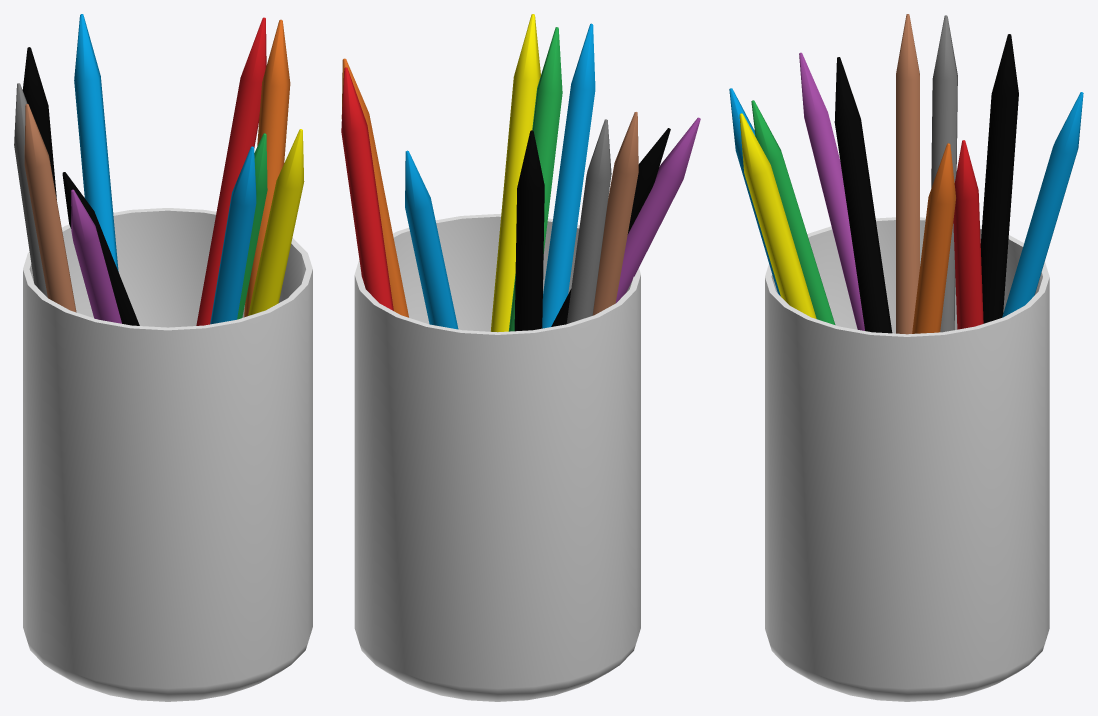
Rendered from Tasa.obj.
The picture shows the model from 3 angles, left to right: view 1: azimuth 30°, elevation 25°; view 2: azimuth 150°, elevation 25°; view 3: azimuth 270°, elevation 25°; orthographic projection.
Visible parts, largest first — view 1: Cup; view 2: Cup; view 3: Cup.
Part boxes in pixels (x1,y1,x2,y2): Cup: (14, 14, 312, 701); Cup: (341, 14, 700, 701); Cup: (729, 14, 1083, 701).
Bounding box in the file's own units: 0.3237 × 0.636 × 0.3506.
12 materials, 12 textured.
